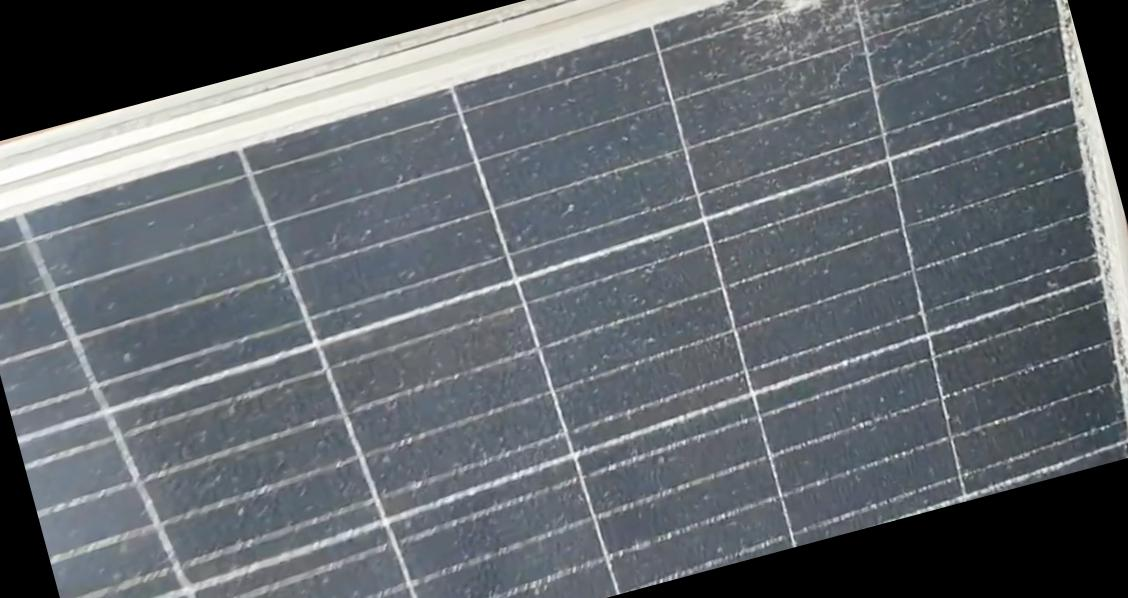Crack: (724, 0, 921, 49)
